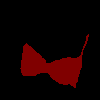reggiseno: (20, 33, 89, 88)
